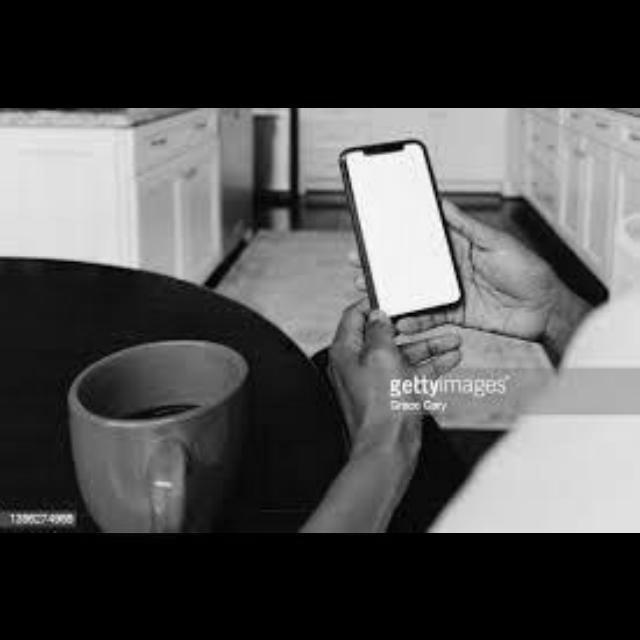fake: (328, 130, 478, 328)
